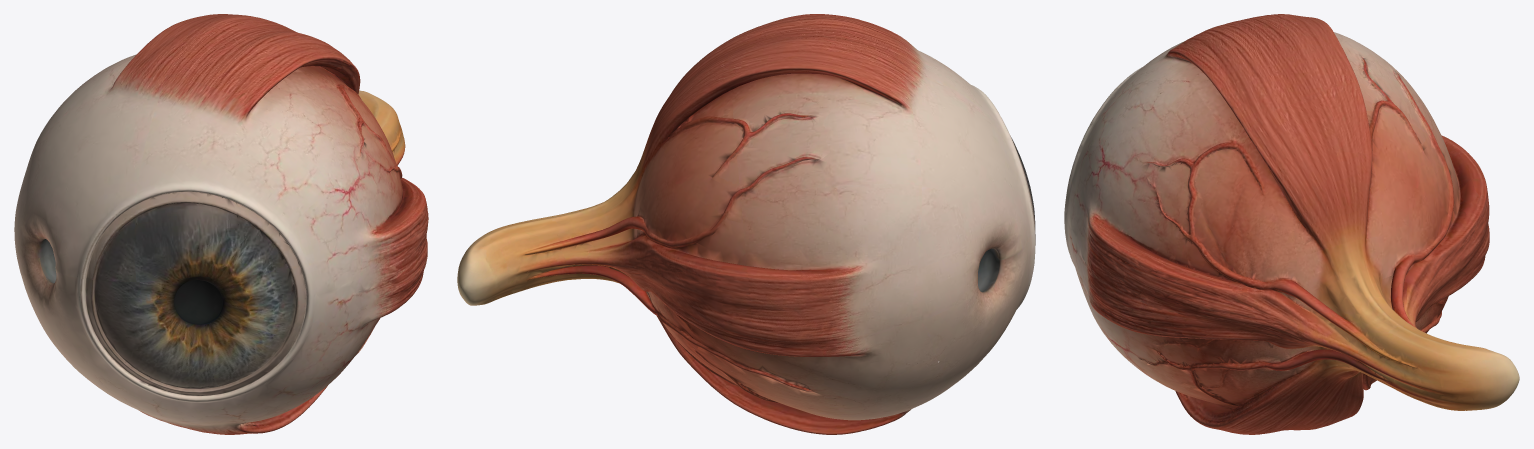
The model's file is eyeball.glb.
The picture shows the model from 3 angles, left to right: view 1: azimuth 30°, elevation 25°; view 2: azimuth 150°, elevation 25°; view 3: azimuth 270°, elevation 25°; orthographic projection.
Parts seen in each view (by area): view 1: tripo_node_ebf243bf-d3b6-4331-9960-3b03130a2b84; view 2: tripo_node_ebf243bf-d3b6-4331-9960-3b03130a2b84; view 3: tripo_node_ebf243bf-d3b6-4331-9960-3b03130a2b84.
Boxes of the visible parts, left/top/right/bottom form: tripo_node_ebf243bf-d3b6-4331-9960-3b03130a2b84: left=14, top=14, right=428, bottom=434; tripo_node_ebf243bf-d3b6-4331-9960-3b03130a2b84: left=457, top=14, right=1035, bottom=434; tripo_node_ebf243bf-d3b6-4331-9960-3b03130a2b84: left=1064, top=14, right=1519, bottom=434.
Bounding box in the file's own units: 0.9792 × 0.8046 × 0.853.
Materials: 1 (1 with a texture image).
